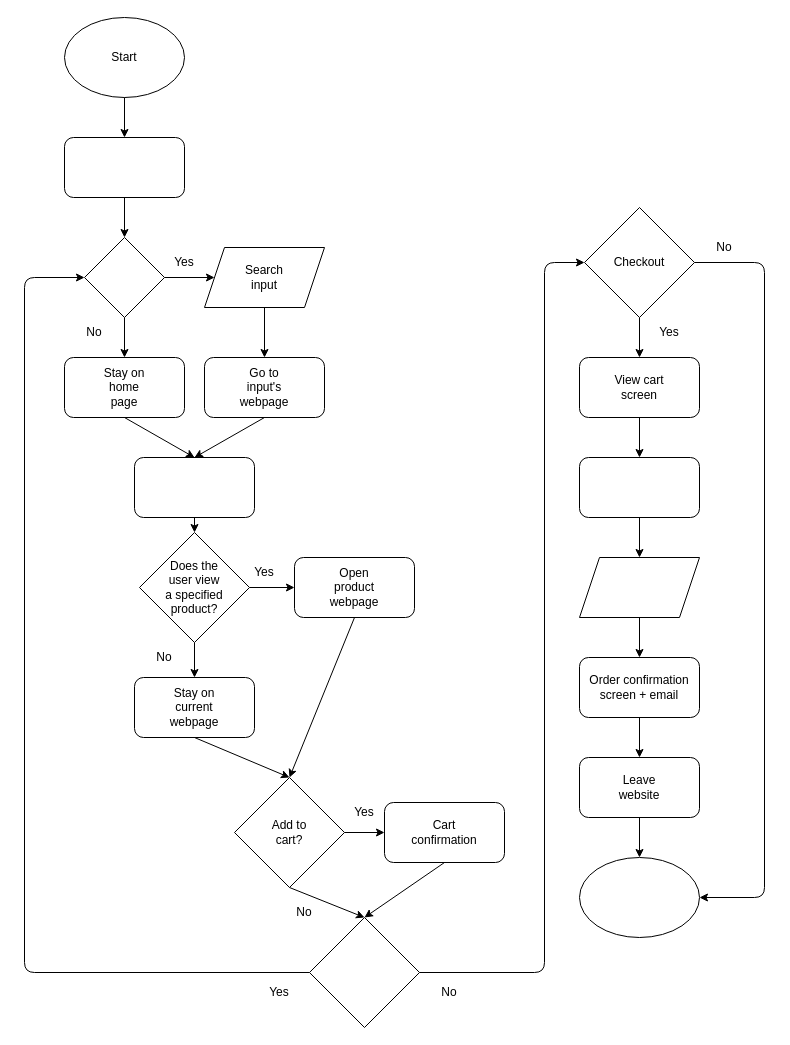
This 790x1045 diagram has some shape labels left out. The shapes that lost their labels are listed below. From the top down, each one's box as (x1, y1, x2, y2) in pixels, then its label:
(64, 136, 184, 198): User enters website
(84, 236, 164, 318): Search for product?
(134, 456, 254, 518): User looks over products on specified page
(578, 456, 700, 518): View payment screen
(578, 556, 700, 618): Payment information input
(578, 856, 700, 938): End
(308, 916, 420, 1028): Continue shopping?
